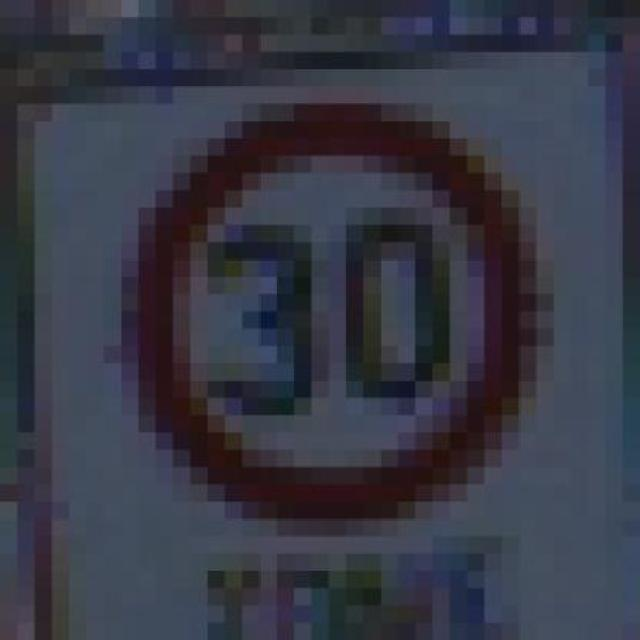Speed Limit 30 KMPh: (69, 121, 606, 519)
